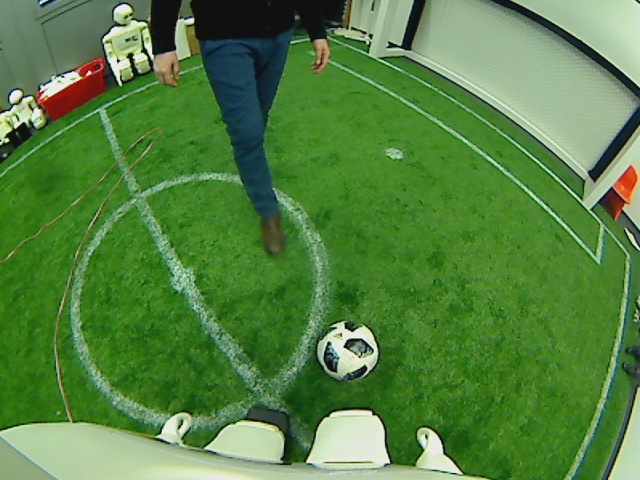ball: (315, 319, 378, 381)
